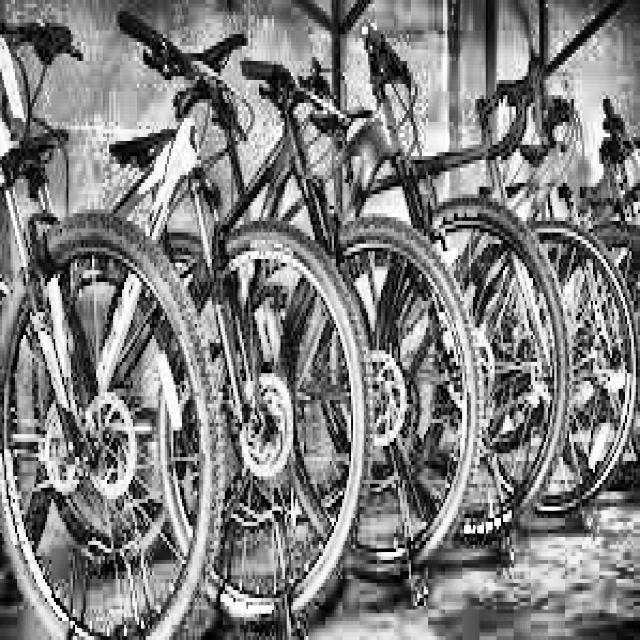bicycle: (68, 0, 364, 615), (299, 5, 573, 547), (237, 42, 473, 610), (7, 22, 219, 640), (411, 40, 637, 535)
